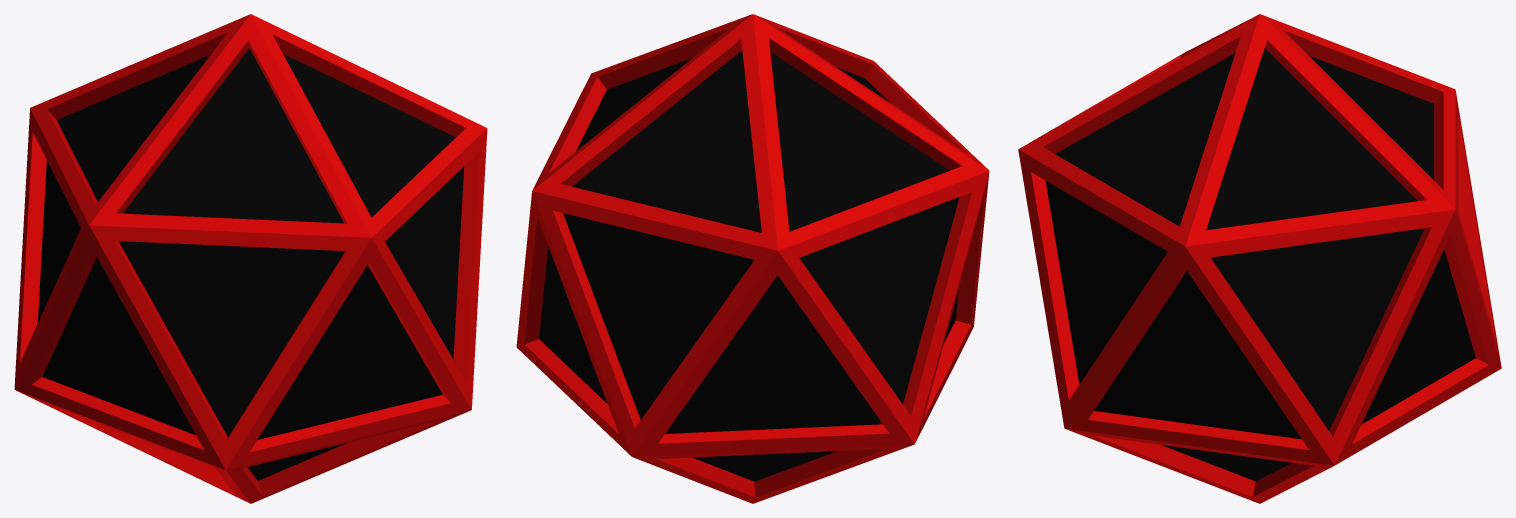
File: Tet.fbx
3 renders of one model, left to right at view 1: azimuth 30°, elevation 25°; view 2: azimuth 150°, elevation 25°; view 3: azimuth 270°, elevation 25°, orthographic.
Visible parts, largest first — view 1: Tet; view 2: Tet; view 3: Tet.
Part boxes in pixels (box(x1,y1,x2,y2)): Tet: box(14, 14, 487, 503); Tet: box(516, 14, 989, 503); Tet: box(1018, 14, 1501, 503).
Bounding box in the file's own units: 170 × 200 × 179.
